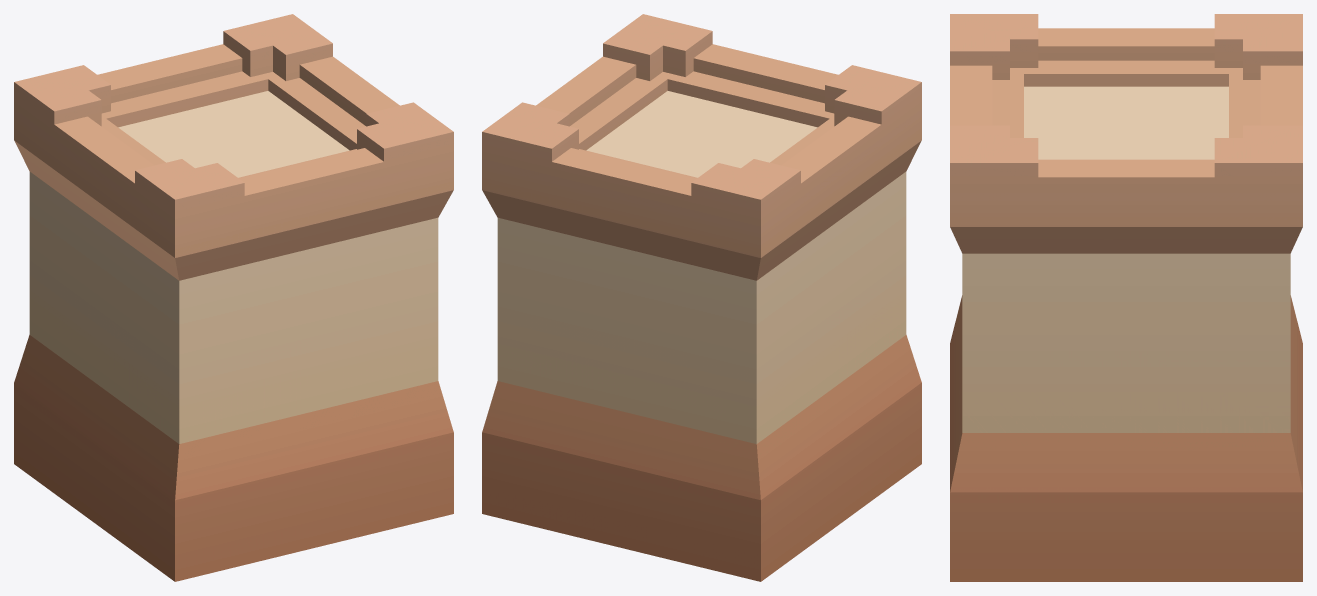
File: forest-tower.glb
3 renders of one model, left to right at view 1: azimuth 30°, elevation 25°; view 2: azimuth 150°, elevation 25°; view 3: azimuth 270°, elevation 25°, orthographic. The views are drawn at different scales.
Parts seen in each view (by area): view 1: tower-square; view 2: tower-square; view 3: tower-square.
Part boxes in pixels (left/top/right/bottom): tower-square: left=14, top=14, right=453, bottom=581; tower-square: left=482, top=14, right=921, bottom=581; tower-square: left=950, top=14, right=1302, bottom=581.
Bounding box in the file's own units: 1 × 1.31 × 1.
Materials: 1 (1 with a texture image).
